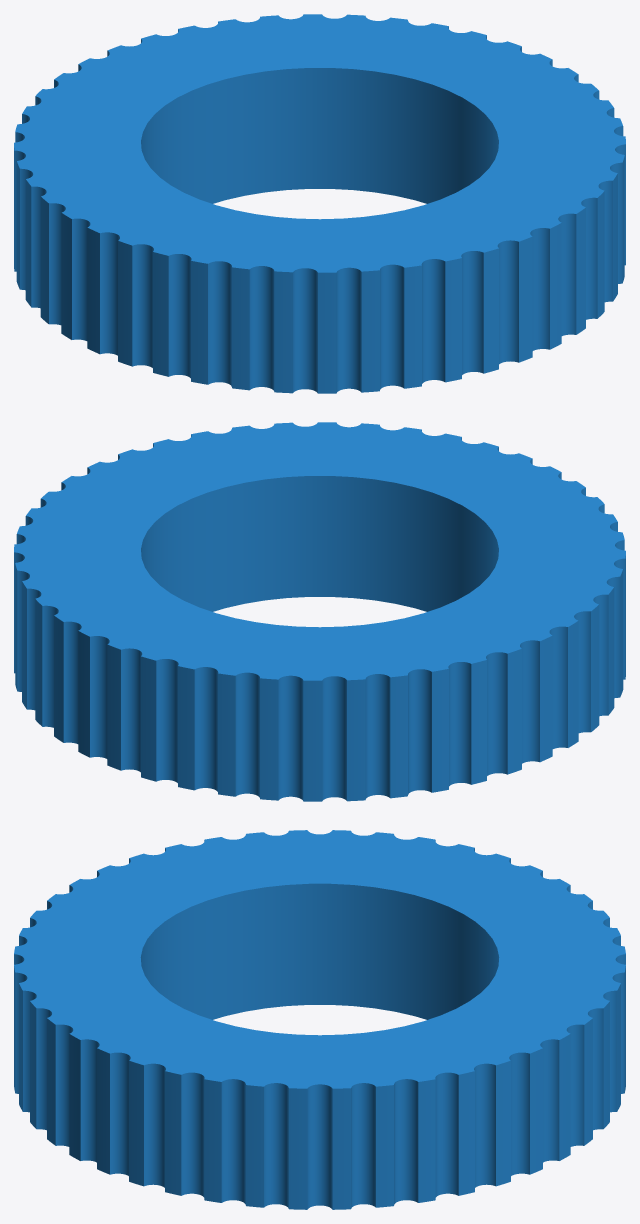
Rendered from elev_polia_livre.glb.
3 views of the same model, one above another, from view 1: azimuth 30°, elevation 25°; view 2: azimuth 150°, elevation 25°; view 3: azimuth 270°, elevation 25° (orthographic).
Visible parts, largest first — view 1: elev_polia_livre; view 2: elev_polia_livre; view 3: elev_polia_livre.
Part boxes in pixels (x1,y1,x2,y2): elev_polia_livre: [14, 14, 625, 393]; elev_polia_livre: [14, 422, 625, 801]; elev_polia_livre: [14, 830, 625, 1209].
Size of the model in its own units: 27.48 by 6 by 27.48.
